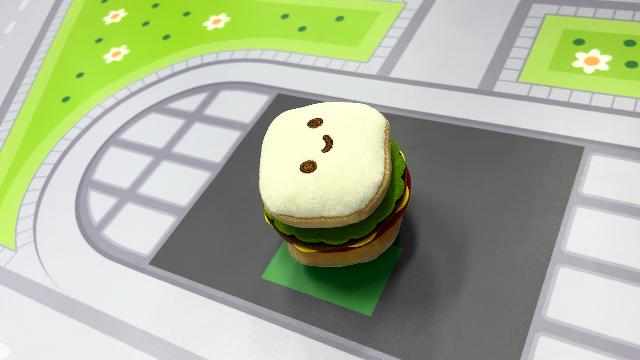sandwich: (256, 98, 412, 268)
